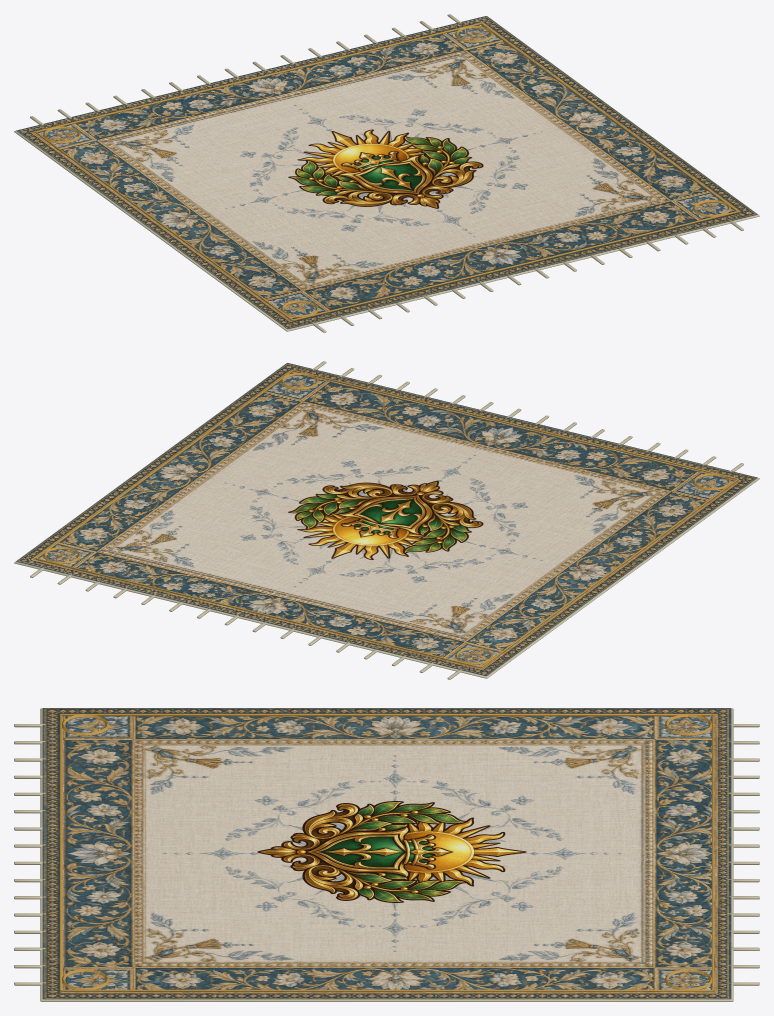
File: carpet-l5.glb
3 renders of one model, top to bottom at view 1: azimuth 30°, elevation 25°; view 2: azimuth 150°, elevation 25°; view 3: azimuth 270°, elevation 25°, orthographic. The views are drawn at different scales.
Parts seen in each view (by area): view 1: Woven cloth body; view 2: Woven cloth body; view 3: Woven cloth body.
Boxes of the visible parts, box(x1,y1,x2,y2) form: Woven cloth body: box(14, 14, 759, 332); Woven cloth body: box(14, 361, 759, 679); Woven cloth body: box(14, 708, 759, 1001).
Bounding box in the file's own units: 1.7 × 0.013 × 1.83.
Materials: 4 (2 with a texture image).
